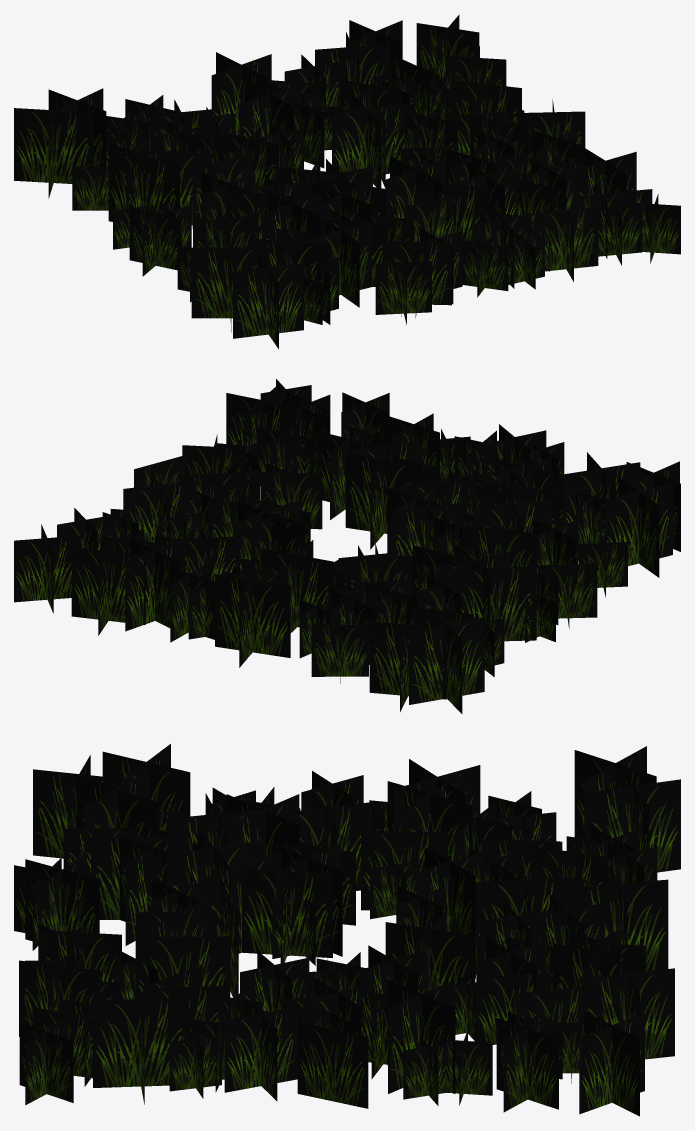
File: Grass.obj
3 views of the same model, one above another, from view 1: azimuth 30°, elevation 25°; view 2: azimuth 150°, elevation 25°; view 3: azimuth 270°, elevation 25° (orthographic). The views are drawn at different scales.
Visible parts, largest first — view 1: GrassyGround; view 2: GrassyGround; view 3: GrassyGround.
Part boxes in pixels (bbox=[...]): GrassyGround: bbox=[14, 14, 680, 349]; GrassyGround: bbox=[14, 379, 680, 713]; GrassyGround: bbox=[14, 744, 680, 1116].
Bounding box in the file's own units: 31.28 × 4.89 × 31.26.
1 material, 1 textured.
